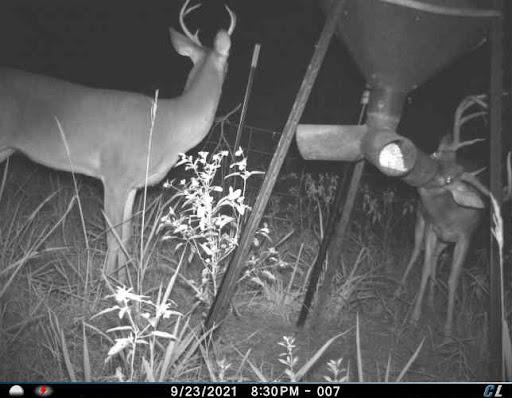Deer: (0, 0, 236, 313), (407, 87, 512, 335)
